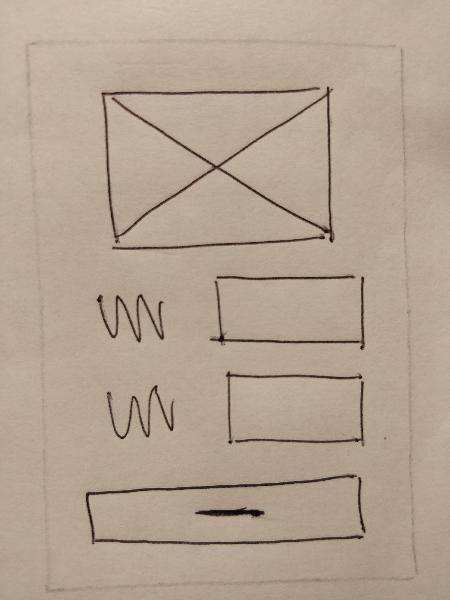button: (71, 468, 383, 554)
image: (82, 80, 350, 253)
text: (81, 282, 181, 353), (84, 381, 191, 445)
text_input: (203, 268, 378, 356), (210, 368, 380, 457)
